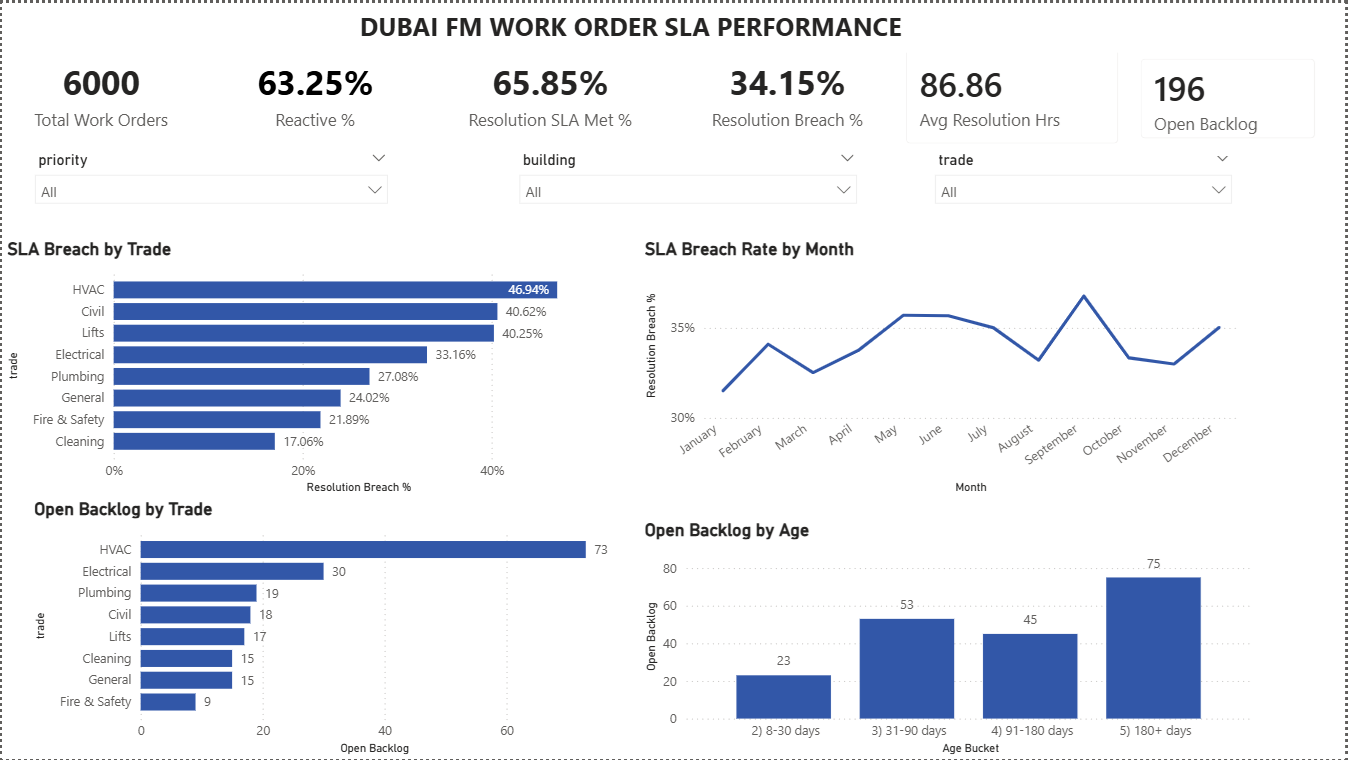

The page's visual inventory and layout, read from the dashboard file:
{"tool":"powerbi","page":{"name":"Page 1","canvas":[1280,720],"ordinal":0},"visuals":[{"type":"card","title":"TOTAL WORK ORDERS","fields":{"Values":["work_orders.Total Work Orders"]},"box":[7.5,35,173.8,100],"z":0},{"type":"card","fields":{"Values":["work_orders.Reactive %"]},"box":[207.5,35,181.2,100],"z":1000},{"type":"card","fields":{"Values":["work_orders.Resolution SLA Met %"]},"box":[422.5,35,197.5,100],"z":2000},{"type":"card","fields":{"Values":["work_orders.Resolution Breach %"]},"box":[640,35,215,100],"z":3000},{"type":"clusteredBarChart","title":"SLA Breach by Trade","fields":{"Y":["work_orders.Resolution Breach %"],"Category":["work_orders.trade"]},"box":[0,223.8,590,247.5],"z":4000},{"type":"clusteredBarChart","title":"Open Backlog by Trade","fields":{"Y":["work_orders.Open Backlog"],"Category":["work_orders.trade"]},"box":[26.2,471.2,563.8,248.8],"z":5000},{"type":"lineChart","title":"SLA Breach Rate by Month","fields":{"Category":["work_orders.created_at.Variation.Date Hierarchy.Month"],"Y":["work_orders.Resolution Breach %"]},"box":[607.5,223.8,573.8,247.5],"z":6000},{"type":"slicer","fields":{"Values":["work_orders.trade"]},"box":[878.8,135,302.5,56.2],"z":7000},{"type":"slicer","fields":{"Values":["work_orders.building"]},"box":[482.5,135,341.2,56.2],"z":8000},{"type":"slicer","fields":{"Values":["work_orders.priority"]},"box":[21.2,135,356.2,56.2],"z":9000},{"type":"clusteredColumnChart","title":"Open Backlog by Age","fields":{"Category":["work_orders.Age Bucket"],"Y":["work_orders.Open Backlog"]},"box":[607.5,491.2,590,228.8],"z":10000},{"type":"cardVisual","fields":{"Data":["work_orders.Avg Resolution Hrs"]},"box":[855,35,212.5,103.8],"z":11000},{"type":"cardVisual","fields":{"Data":["work_orders.Open Backlog"]},"box":[1067.5,35,200,110],"z":11001},{"type":"textbox","box":[0,0,1197.5,47.5],"z":11002}]}

Visuals, with their boxes in screenshot pixels (x1, y1, x2, y2), scaled from the page's 1280x720 canvas onto the 1348x760 screenshot:
"TOTAL WORK ORDERS" card: box(8, 37, 191, 142)
card - work_orders.Reactive %: box(219, 37, 409, 142)
card - work_orders.Resolution SLA Met %: box(445, 37, 653, 142)
card - work_orders.Resolution Breach %: box(674, 37, 900, 142)
"SLA Breach by Trade" clusteredBarChart: box(0, 236, 621, 497)
"Open Backlog by Trade" clusteredBarChart: box(28, 497, 621, 759)
"SLA Breach Rate by Month" lineChart: box(640, 236, 1244, 497)
slicer - work_orders.trade: box(925, 142, 1244, 202)
slicer - work_orders.building: box(508, 142, 867, 202)
slicer - work_orders.priority: box(22, 142, 397, 202)
"Open Backlog by Age" clusteredColumnChart: box(640, 518, 1261, 759)
cardVisual - work_orders.Avg Resolution Hrs: box(900, 37, 1124, 147)
cardVisual - work_orders.Open Backlog: box(1124, 37, 1335, 153)
textbox: box(0, 0, 1261, 50)
